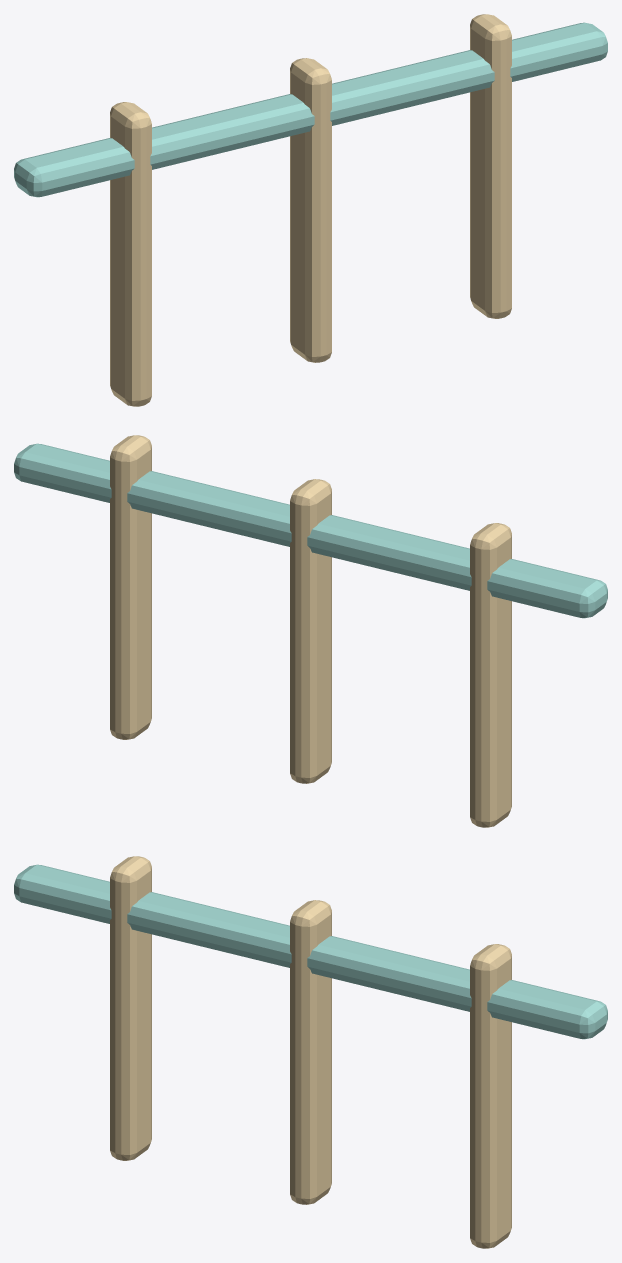
File: door.glb
The picture shows the model from 3 angles, top to bottom: view 1: azimuth 30°, elevation 25°; view 2: azimuth 150°, elevation 25°; view 3: azimuth 330°, elevation 25°; orthographic projection.
Parts seen in each view (by area): view 1: door_Diver_brass, door_Enamel_jade; view 2: door_Diver_brass, door_Enamel_jade; view 3: door_Diver_brass, door_Enamel_jade.
Part boxes in pixels (x1,y1,x2,y2): door_Diver_brass: (110,14,511,406); door_Enamel_jade: (14,22,607,197); door_Diver_brass: (110,435,511,827); door_Enamel_jade: (14,443,607,618); door_Diver_brass: (110,856,511,1248); door_Enamel_jade: (14,864,607,1039).
Size of the model in its own units: 2.9 by 1.4 by 0.22.
